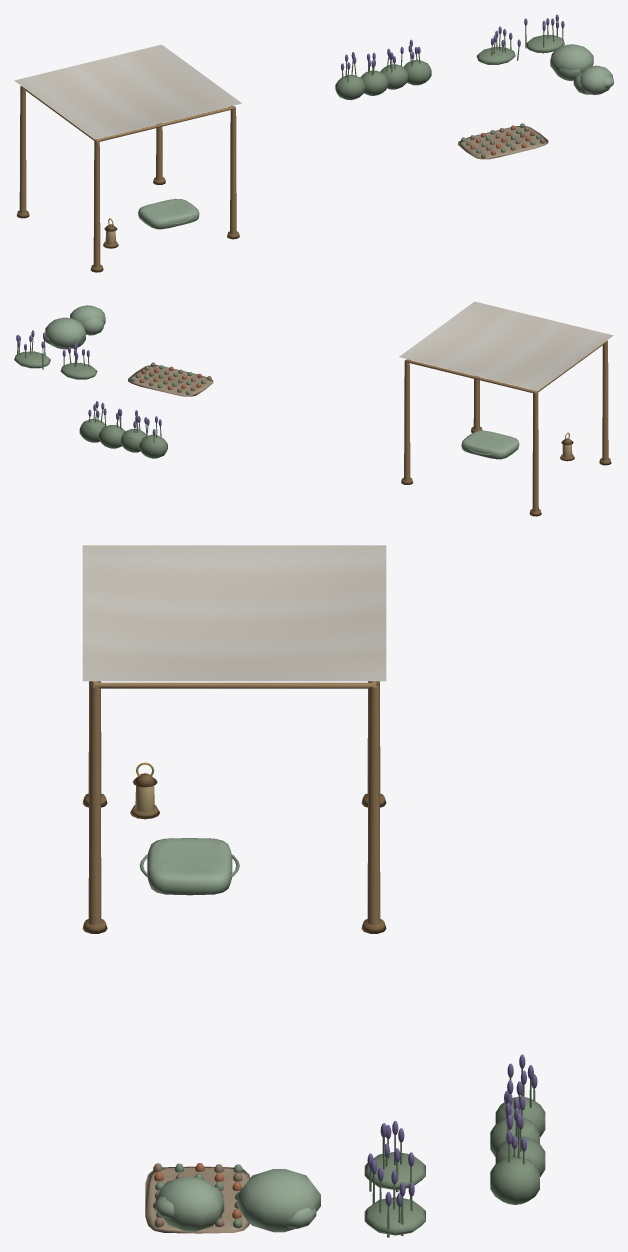
3 renders of one model, top to bottom at view 1: azimuth 30°, elevation 25°; view 2: azimuth 150°, elevation 25°; view 3: azimuth 270°, elevation 25°, orthographic. The views are drawn at different scales.
Visible parts, largest first — view 1: rest_place, sniff_corner; view 2: rest_place, sniff_corner; view 3: rest_place, sniff_corner.
Boxes of the visible parts, left/top/right/bottom form: rest_place: left=14, top=44, right=241, bottom=272; sniff_corner: left=335, top=14, right=613, bottom=159; rest_place: left=399, top=301, right=613, bottom=516; sniff_corner: left=14, top=305, right=213, bottom=458; rest_place: left=82, top=545, right=386, bottom=933; sniff_corner: left=145, top=1054, right=545, bottom=1237.
Bounding box in the file's own units: 6.72 × 1.57 × 2.59.
